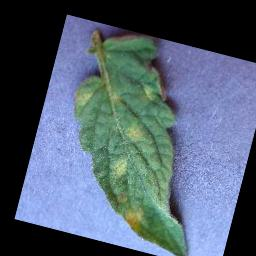Leaf_Mold: (120, 204, 146, 234), (70, 80, 95, 110), (121, 120, 147, 146), (109, 153, 130, 179)
